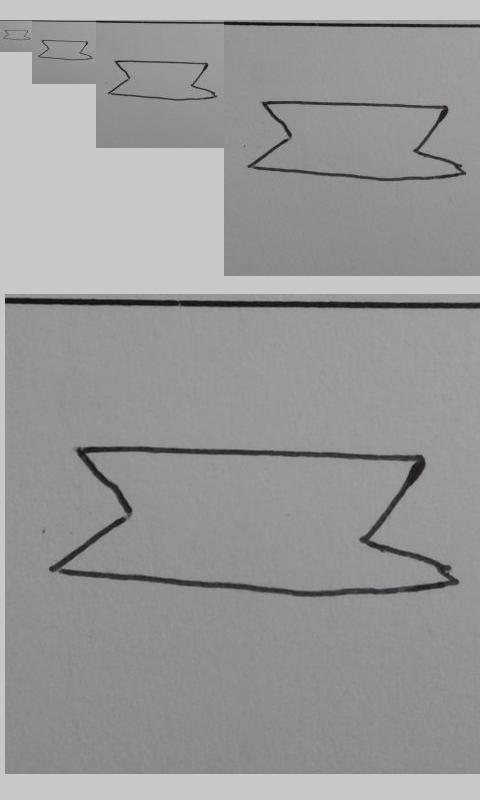edit_text: (48, 442, 459, 597), (247, 99, 468, 183), (108, 59, 217, 102), (38, 39, 94, 61), (3, 29, 31, 41)
